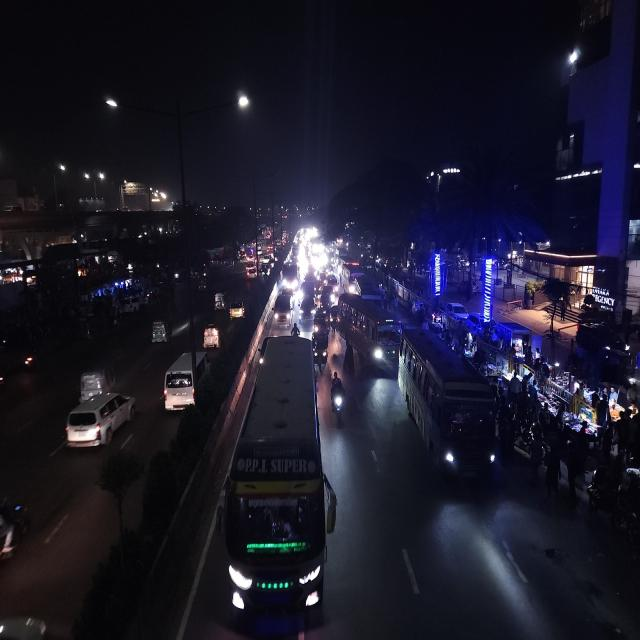bus: (222, 334, 330, 637), (396, 327, 500, 496), (337, 292, 400, 376), (341, 258, 362, 294), (281, 258, 299, 292)
car: (64, 389, 138, 456), (160, 348, 203, 417), (271, 289, 293, 329), (296, 298, 315, 326), (445, 300, 469, 322), (228, 297, 246, 322), (245, 264, 258, 282)
cng: (74, 364, 112, 400), (313, 327, 329, 373), (202, 321, 222, 353), (150, 317, 172, 346), (212, 290, 226, 312), (328, 302, 339, 328)
motorcycle: (329, 370, 347, 428), (21, 350, 40, 376), (292, 321, 302, 338)
